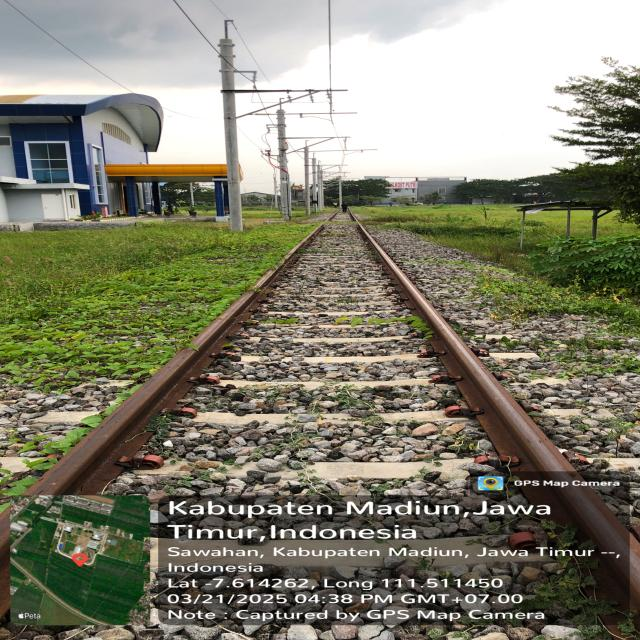rail-detection: (358, 226, 640, 606), (28, 262, 284, 495)
